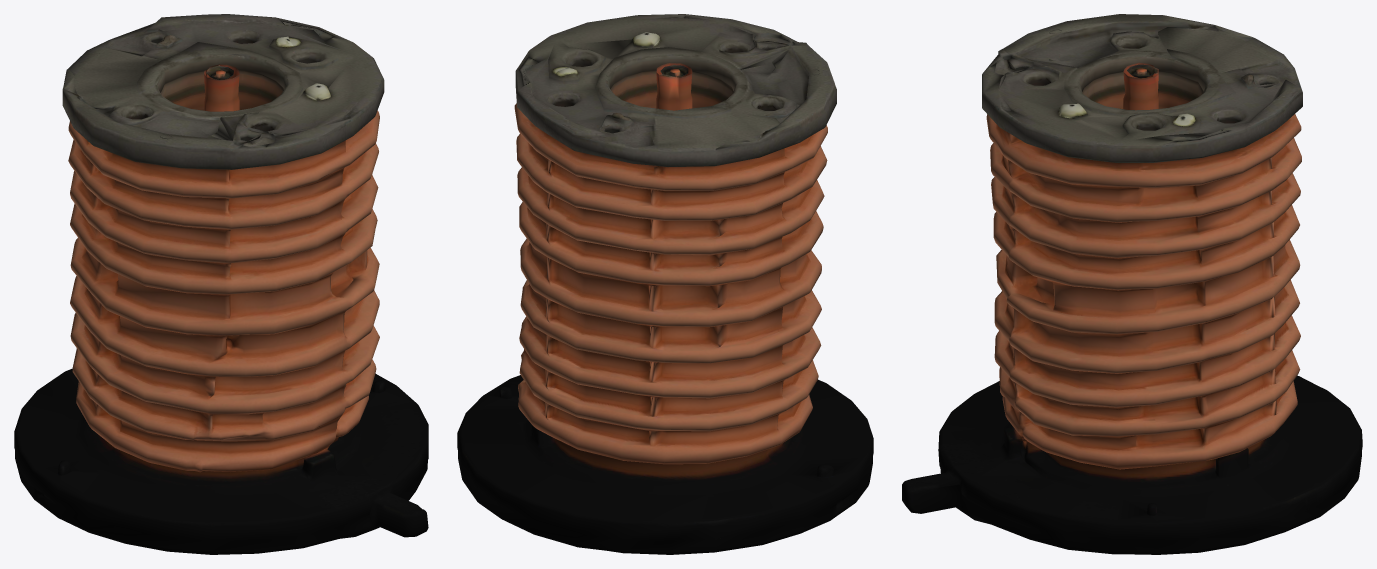
3 views of the same model, side by side, from view 1: azimuth 30°, elevation 25°; view 2: azimuth 150°, elevation 25°; view 3: azimuth 270°, elevation 25° (orthographic).
Visible parts, largest first — view 1: tripo_node_6a1cb800-f1d5-47d8-9872-fd6e58be7dd8; view 2: tripo_node_6a1cb800-f1d5-47d8-9872-fd6e58be7dd8; view 3: tripo_node_6a1cb800-f1d5-47d8-9872-fd6e58be7dd8.
Part boxes in pixels (x1,y1,x2,y2): tripo_node_6a1cb800-f1d5-47d8-9872-fd6e58be7dd8: (14, 14, 428, 554); tripo_node_6a1cb800-f1d5-47d8-9872-fd6e58be7dd8: (457, 14, 873, 554); tripo_node_6a1cb800-f1d5-47d8-9872-fd6e58be7dd8: (902, 14, 1362, 554).
Size of the model in its own units: 0.0923 by 0.1 by 0.1026.
Materials: 1 (1 with a texture image).
